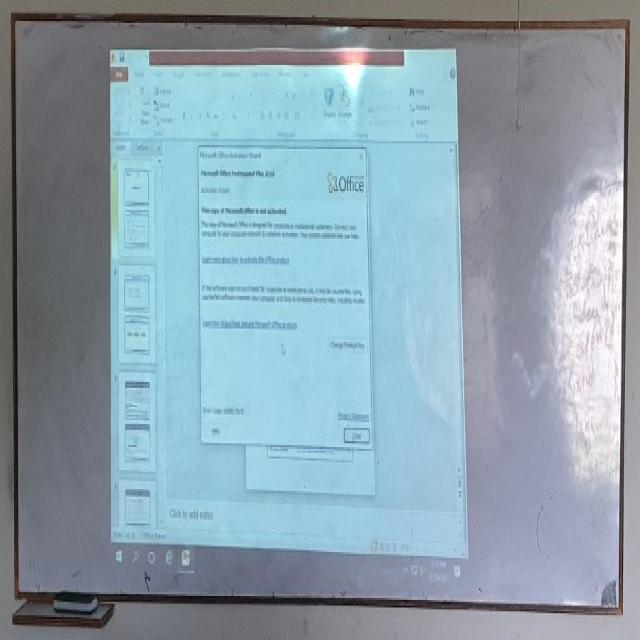Slide: (110, 41, 471, 585)
White-board: (13, 18, 629, 613)
